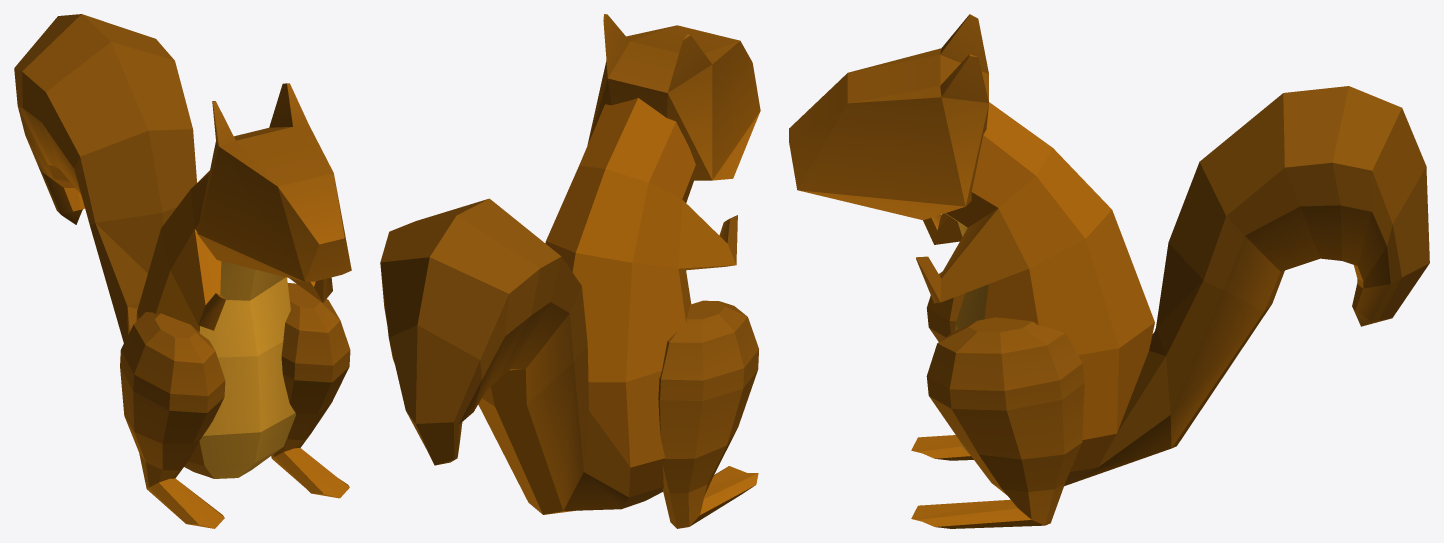
File: squirel.glb
3 views of the same model, side by side, from view 1: azimuth 30°, elevation 25°; view 2: azimuth 150°, elevation 25°; view 3: azimuth 270°, elevation 25° (orthographic). The views are drawn at different scales.
Visible parts, largest first — view 1: squirel_merged; view 2: squirel_merged; view 3: squirel_merged.
Part boxes in pixels (box(x1,y1,x2,y2)): squirel_merged: box(14, 14, 351, 528); squirel_merged: box(380, 14, 760, 528); squirel_merged: box(789, 14, 1429, 528).
Size of the model in its own units: 1.82 by 3.48 by 4.44.
Materials: 3 (3 with a texture image).
